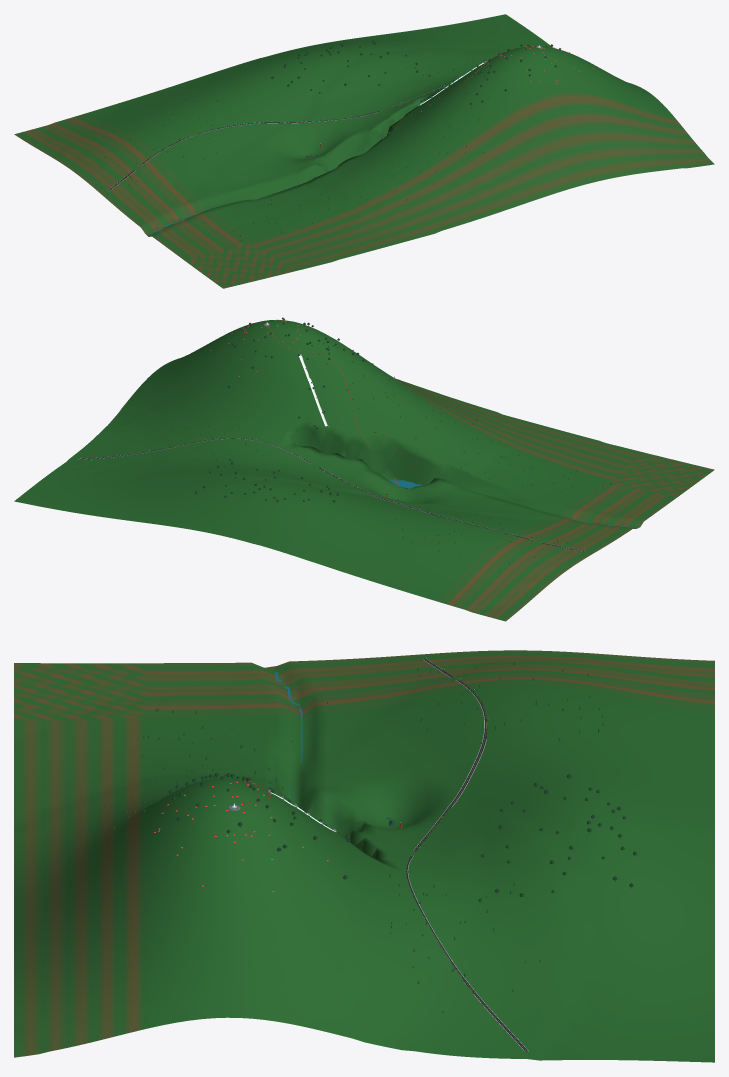
The model's file is ring3_w4_bidoup_nui_ba_national_park_corridor.glb.
3 renders of one model, top to bottom at view 1: azimuth 30°, elevation 25°; view 2: azimuth 150°, elevation 25°; view 3: azimuth 270°, elevation 25°, orthographic. The views are drawn at different scales.
Parts seen in each view (by area): view 1: Terrain_Bidoup_NuiBa_NationalPark_2287m, Roads_QL27C_Dalat_NhaTrang_Corridor, Vegetation_Pinus_Krempfii_FlatNeedle_Ancients; view 2: Terrain_Bidoup_NuiBa_NationalPark_2287m, Roads_QL27C_Dalat_NhaTrang_Corridor, Vegetation_Pinus_Krempfii_FlatNeedle_Ancients; view 3: Terrain_Bidoup_NuiBa_NationalPark_2287m, Roads_QL27C_Dalat_NhaTrang_Corridor, Vegetation_Pinus_Krempfii_FlatNeedle_Ancients, Vegetation_Bidoup_ThreeNeedle_Pines.
Boxes of the visible parts, x1,y1,x2,y2 form: Terrain_Bidoup_NuiBa_NationalPark_2287m: [14, 14, 714, 288]; Roads_QL27C_Dalat_NhaTrang_Corridor: [108, 85, 448, 190]; Vegetation_Pinus_Krempfii_FlatNeedle_Ancients: [271, 40, 560, 104]; Terrain_Bidoup_NuiBa_NationalPark_2287m: [14, 320, 714, 621]; Roads_QL27C_Dalat_NhaTrang_Corridor: [78, 438, 584, 551]; Vegetation_Pinus_Krempfii_FlatNeedle_Ancients: [195, 317, 364, 502]; Terrain_Bidoup_NuiBa_NationalPark_2287m: [14, 650, 714, 1062]; Roads_QL27C_Dalat_NhaTrang_Corridor: [406, 659, 527, 1051]; Vegetation_Pinus_Krempfii_FlatNeedle_Ancients: [168, 772, 636, 901]; Vegetation_Bidoup_ThreeNeedle_Pines: [104, 662, 603, 1013].
Size of the model in its own units: 3800 by 795 by 2800.
18 materials, 2 textured.
